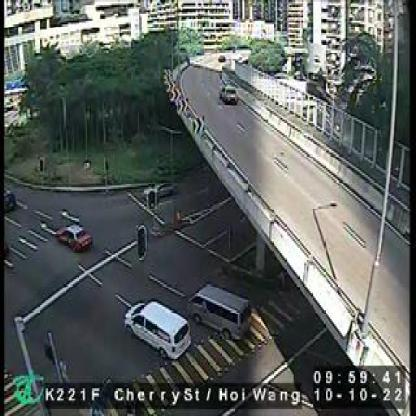Car: (124, 299, 191, 362), (187, 282, 253, 342), (54, 223, 94, 252), (144, 178, 179, 202), (222, 83, 239, 103)
